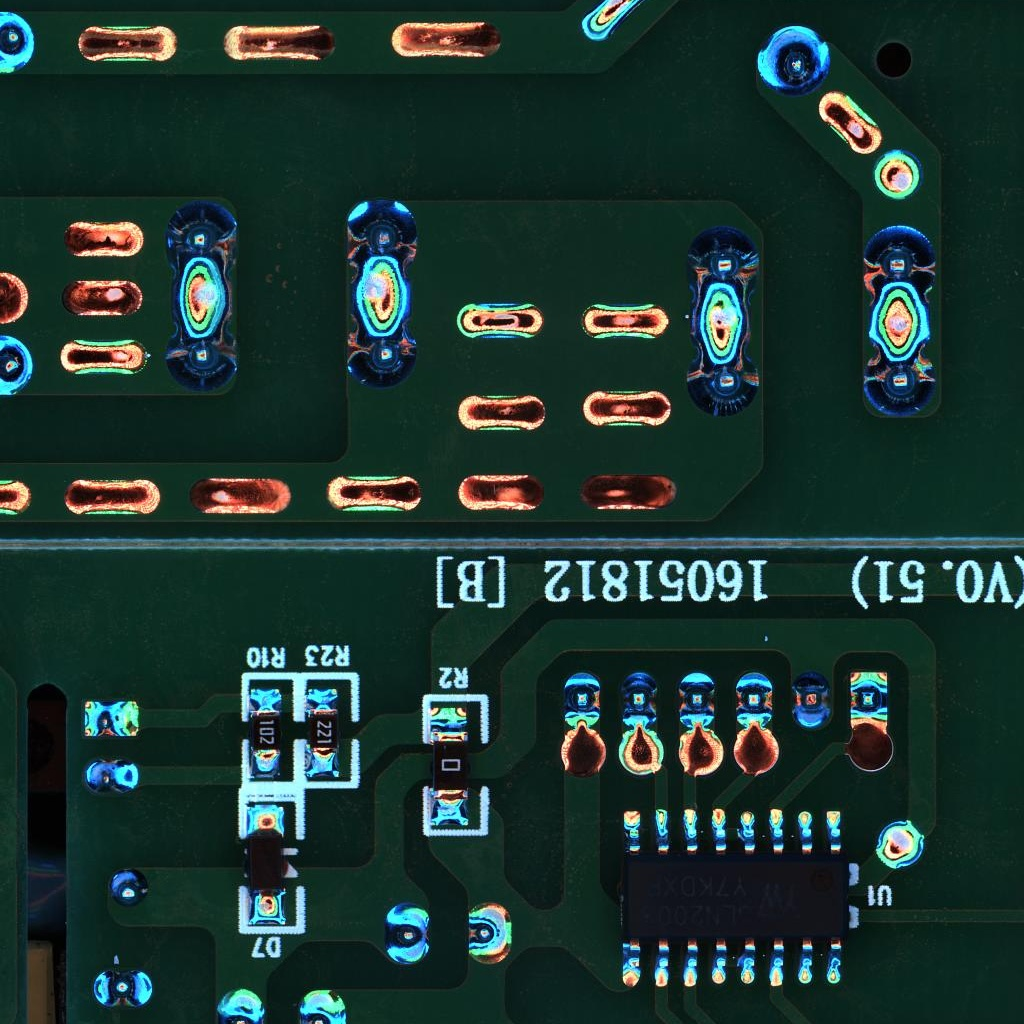spot: (856, 223, 941, 304), (858, 344, 943, 421), (165, 318, 242, 394), (684, 346, 763, 420), (684, 226, 762, 300), (754, 23, 831, 95), (163, 198, 238, 271), (344, 197, 420, 269), (345, 312, 419, 385), (467, 899, 514, 965), (384, 901, 432, 965), (89, 967, 158, 1009), (847, 668, 891, 733), (875, 817, 927, 871), (79, 697, 141, 739), (792, 671, 834, 732), (677, 669, 718, 731), (732, 672, 774, 732), (1, 333, 38, 400), (83, 756, 143, 797), (1, 9, 35, 81), (562, 669, 601, 729), (620, 669, 657, 727), (213, 986, 269, 1024), (297, 986, 350, 1024), (108, 865, 149, 910)
